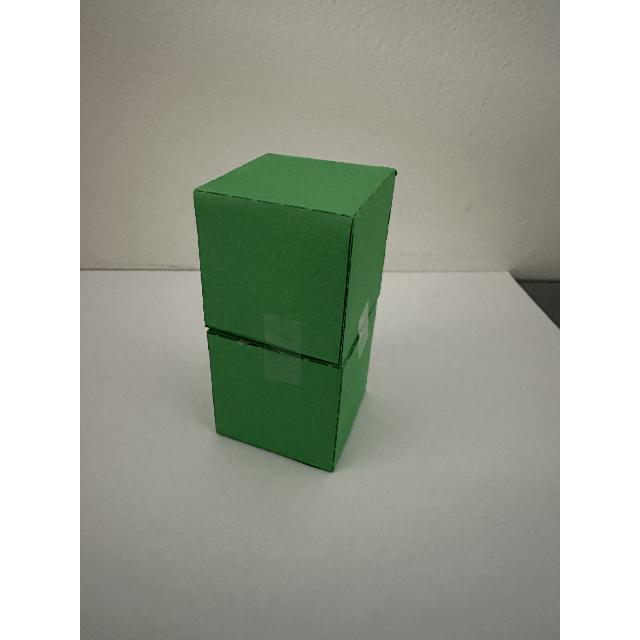green_cube: (188, 138, 422, 498)
